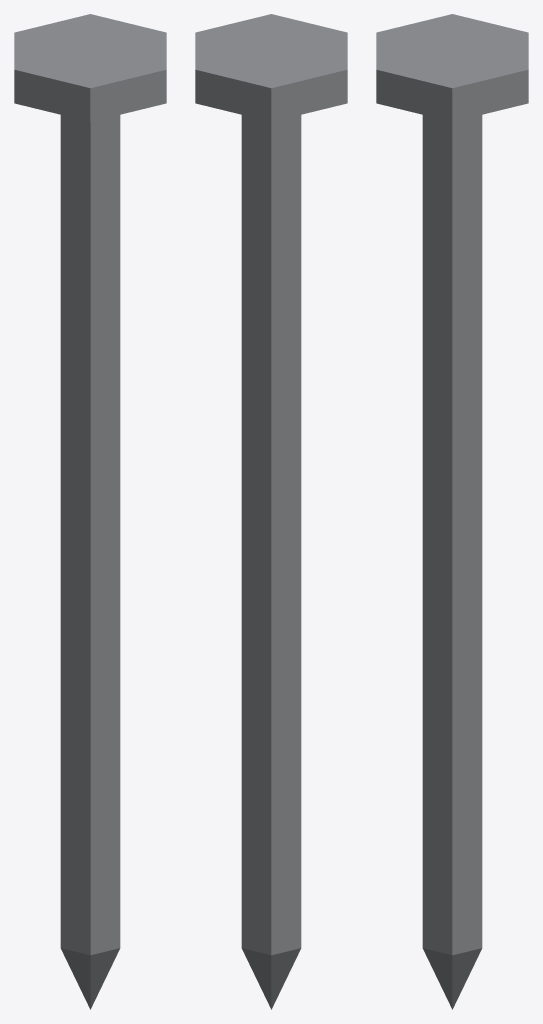
File: SM_Item_Nail_08.fbx
3 renders of one model, left to right at view 1: azimuth 30°, elevation 25°; view 2: azimuth 150°, elevation 25°; view 3: azimuth 270°, elevation 25°, orthographic.
Parts seen in each view (by area): view 1: SM_Item_Nail_08; view 2: SM_Item_Nail_08; view 3: SM_Item_Nail_08.
Part boxes in pixels (x1,y1,x2,y2): SM_Item_Nail_08: (14,14,166,1009); SM_Item_Nail_08: (195,14,347,1009); SM_Item_Nail_08: (376,14,528,1009).
Bounding box in the file's own units: 3.87 × 23.32 × 3.35.
